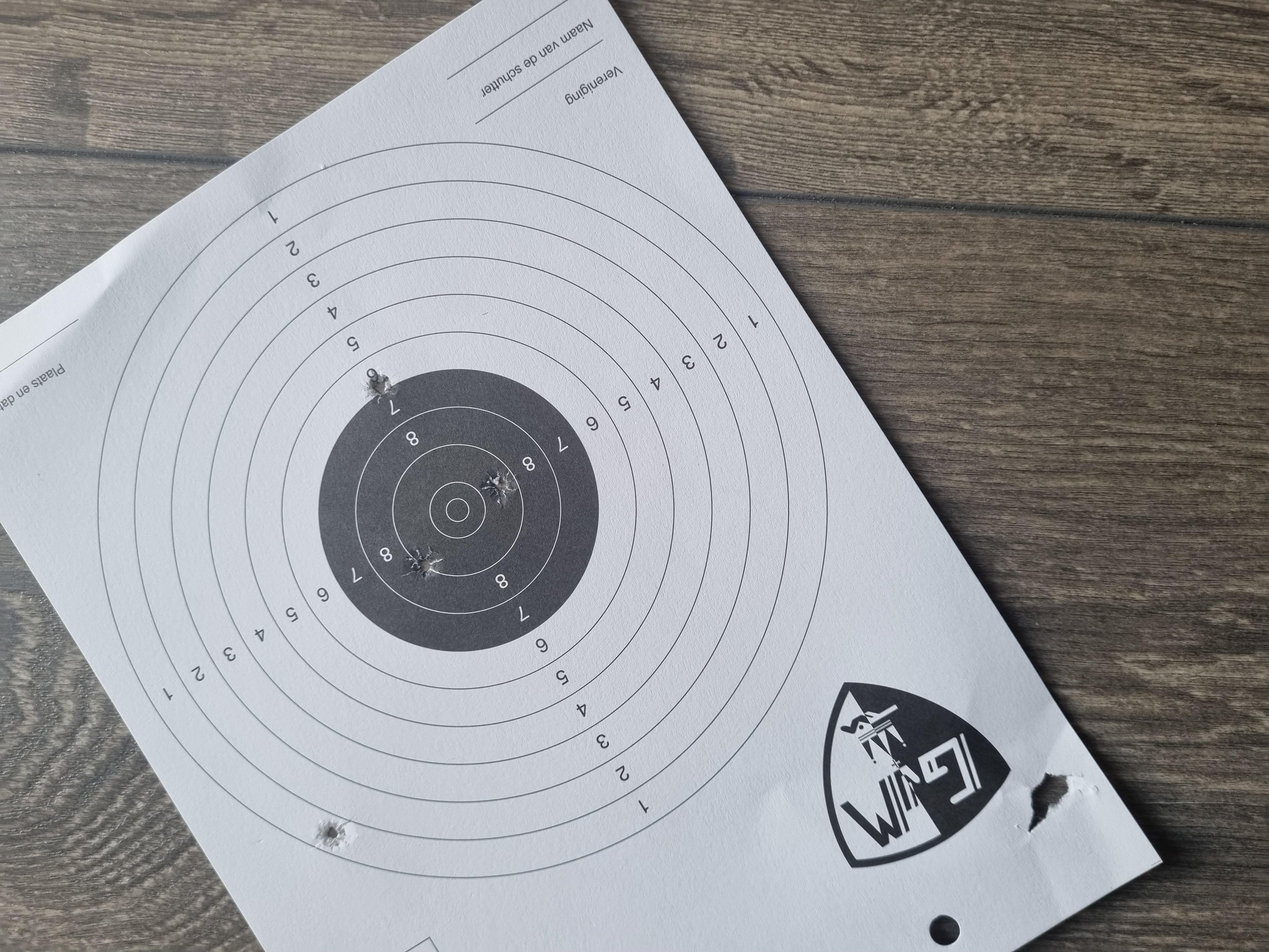hole: (128, 234, 187, 264), (491, 303, 542, 334), (591, 360, 644, 388), (731, 273, 772, 296)
